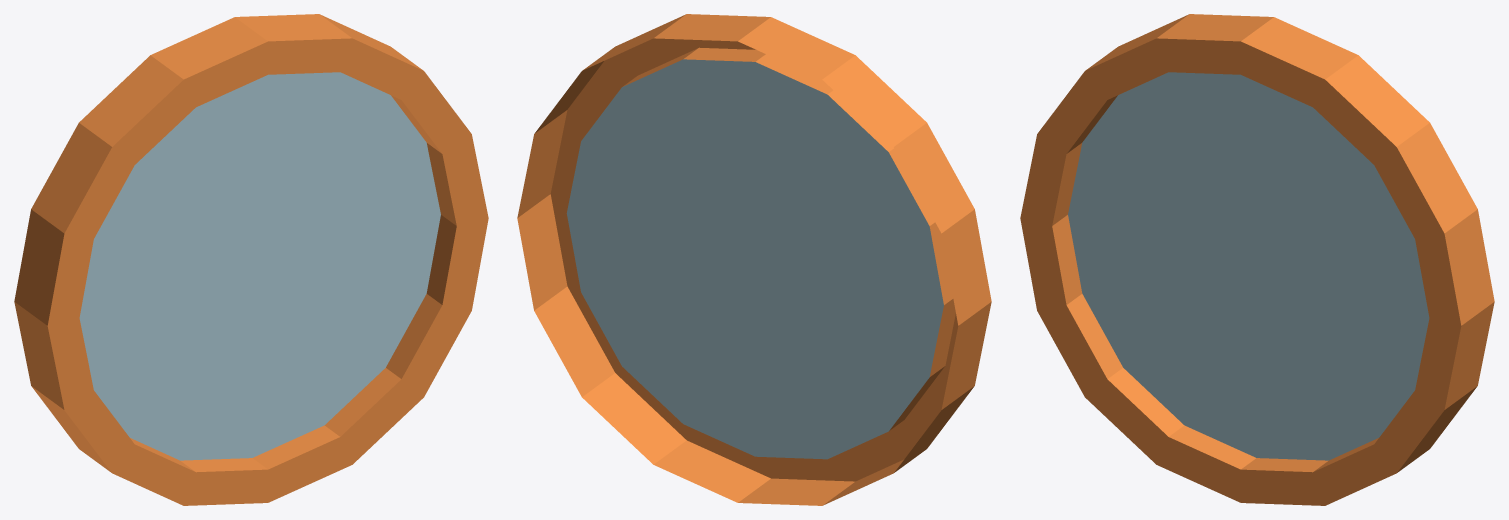
Rendered from Mirror_3.fbx.
3 views of the same model, side by side, from view 1: azimuth 30°, elevation 25°; view 2: azimuth 150°, elevation 25°; view 3: azimuth 330°, elevation 25° (orthographic).
Parts seen in each view (by area): view 1: Mirror_3; view 2: Mirror_3; view 3: Mirror_3.
Part boxes in pixels (box(x1,y1,x2,y2)): Mirror_3: box(14, 14, 488, 505); Mirror_3: box(517, 14, 991, 505); Mirror_3: box(1020, 14, 1494, 505).
Bounding box in the file's own units: 91.87 × 12.04 × 91.87.
